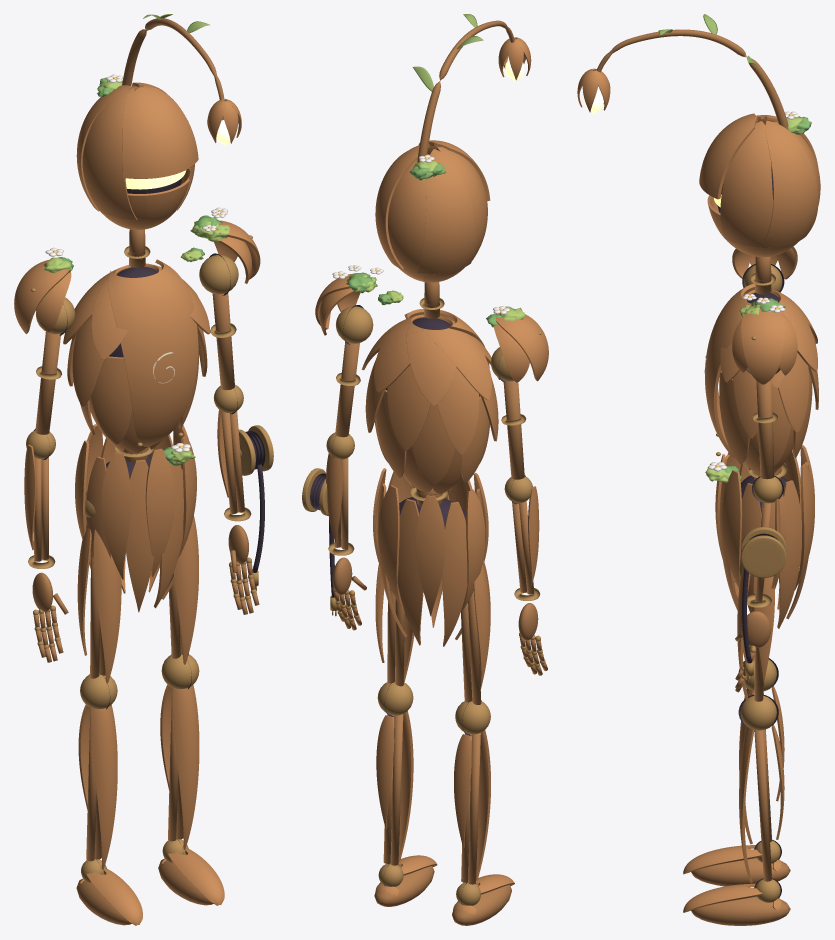
Rendered from robot_graine.glb.
3 views of the same model, side by side, from view 1: azimuth 30°, elevation 25°; view 2: azimuth 150°, elevation 25°; view 3: azimuth 270°, elevation 25° (orthographic). The views are drawn at different scales.
Visible parts, largest first — view 1: plastron, paupiere, tete_haut1, jambiere_D, jambiere_G, jupe_dessus2, jupe_dessus0, jupe1, cuissard_G, ecaille_2_6, cuissard_D, epaulette2_G (+45 smaller); view 2: tete_haut3, tete_dos, jupe5, ecaille_0_4, jupe_dessus6, jupe6, ecaille_1_3, ecaille_1_4, ecaille_2_4, ecaille_0_3, ecaille_0_5, jupe_dessus5 (+49 smaller); view 3: tete_haut0, tete_haut2, epaulette2_D, plastron, paupiere, jupe4, pied_noyau_D, enrouleur, antenne, jupe_dessus1, pied_noyau_G, ecaille_1_2 (+23 smaller).
Part boxes in pixels (x1,y1,x2,y2): plastron: [108, 259, 198, 446]; paupiere: [122, 87, 198, 178]; tete_haut1: [82, 88, 137, 220]; jambiere_D: [173, 685, 199, 849]; jambiere_G: [91, 705, 117, 869]; jupe_dessus2: [101, 452, 131, 579]; jupe_dessus0: [145, 448, 175, 577]; jupe1: [126, 459, 154, 612]; cuissard_G: [93, 529, 121, 683]; ecaille_2_6: [91, 356, 131, 444]; cuissard_D: [173, 516, 198, 664]; epaulette2_G: [14, 259, 69, 333]; tete_haut3: [417, 149, 475, 274]; tete_dos: [388, 154, 429, 280]; jupe5: [442, 501, 467, 646]; ecaille_0_4: [406, 322, 458, 405]; jupe_dessus6: [415, 495, 445, 616]; jupe6: [397, 499, 423, 645]; ecaille_1_3: [387, 365, 430, 451]; ecaille_1_4: [437, 367, 479, 455]; ecaille_2_4: [412, 405, 454, 486]; ecaille_0_3: [374, 316, 442, 392]; ecaille_0_5: [422, 319, 491, 400]; jupe_dessus5: [378, 485, 403, 609]; tete_haut0: [720, 121, 773, 247]; tete_haut2: [761, 120, 818, 247]; epaulette2_D: [741, 306, 785, 384]; plastron: [705, 283, 755, 457]; paupiere: [699, 113, 757, 199]; jupe4: [777, 480, 801, 628]; pied_noyau_D: [691, 896, 790, 925]; enrouleur: [741, 527, 786, 577]; antenne: [597, 29, 788, 129]; jupe_dessus1: [722, 470, 742, 588]; pied_noyau_G: [691, 858, 790, 886]; ecaille_1_2: [778, 353, 809, 432].
Bounding box in the file's own units: 0.5951 × 2.13 × 0.5319.
